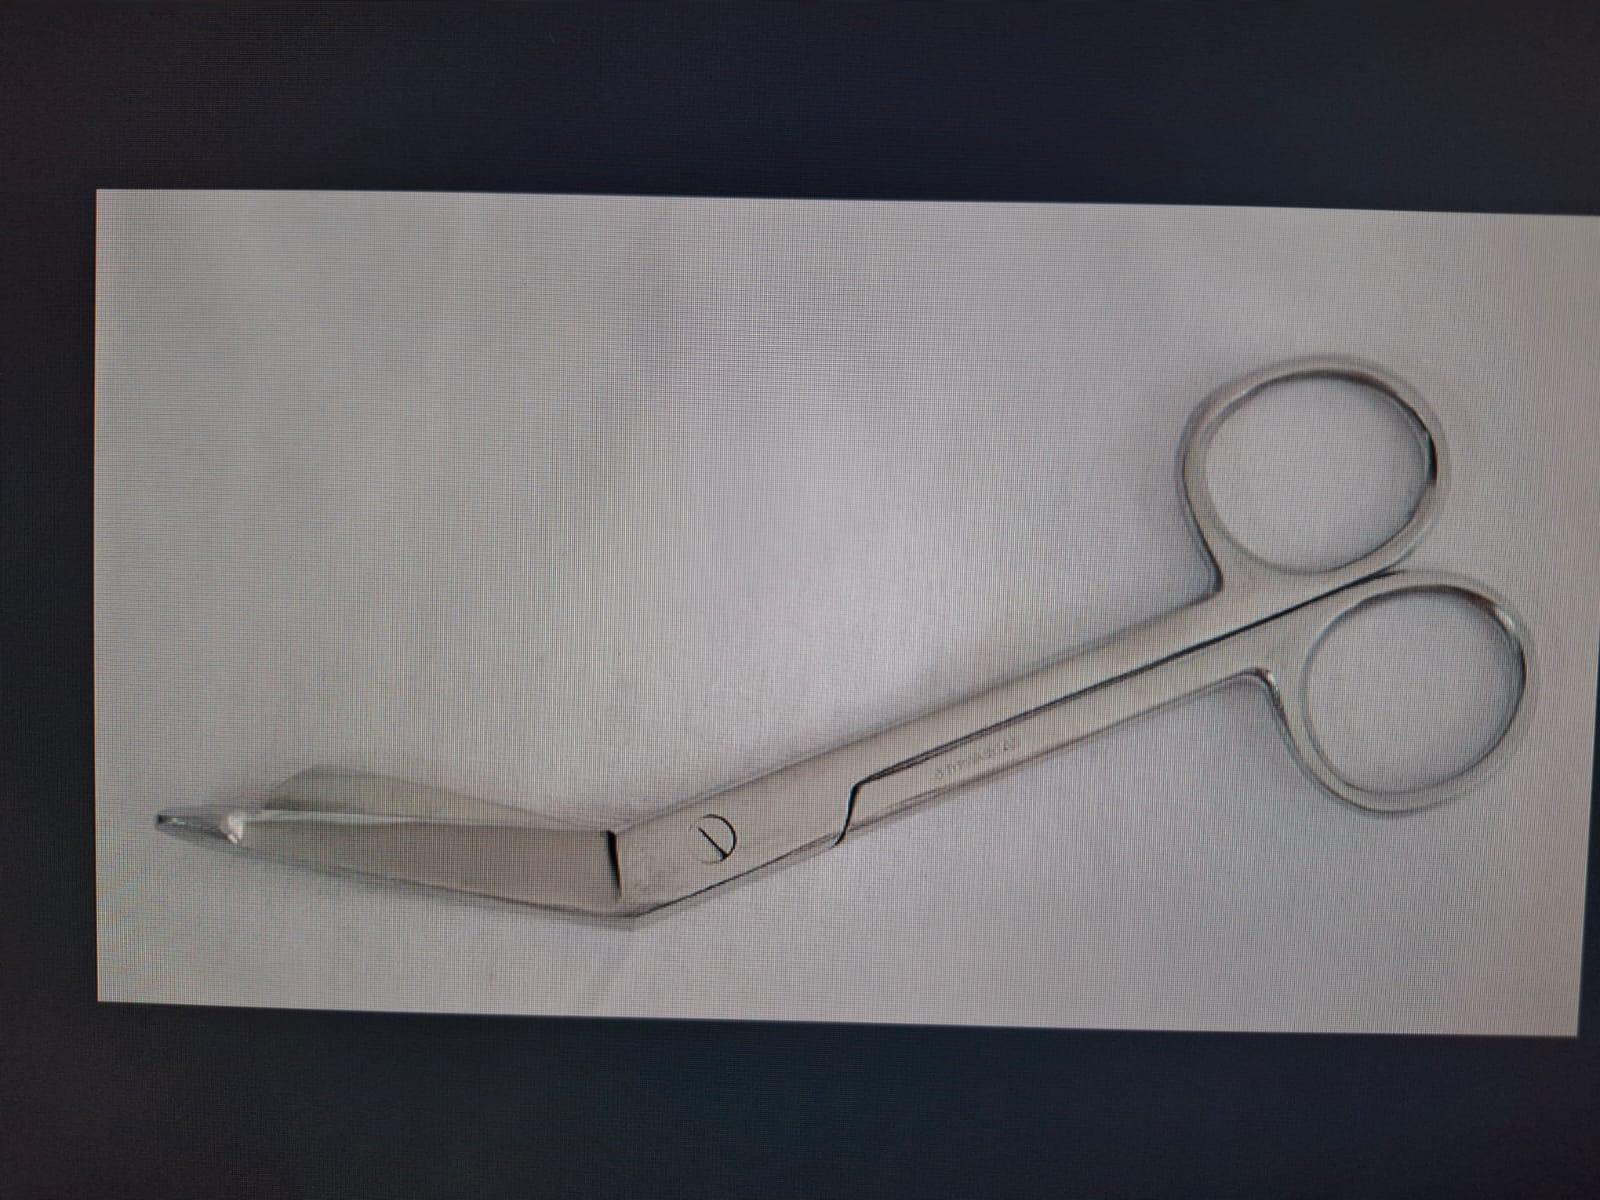Bandage Sciccors: (152, 342, 1550, 952)
